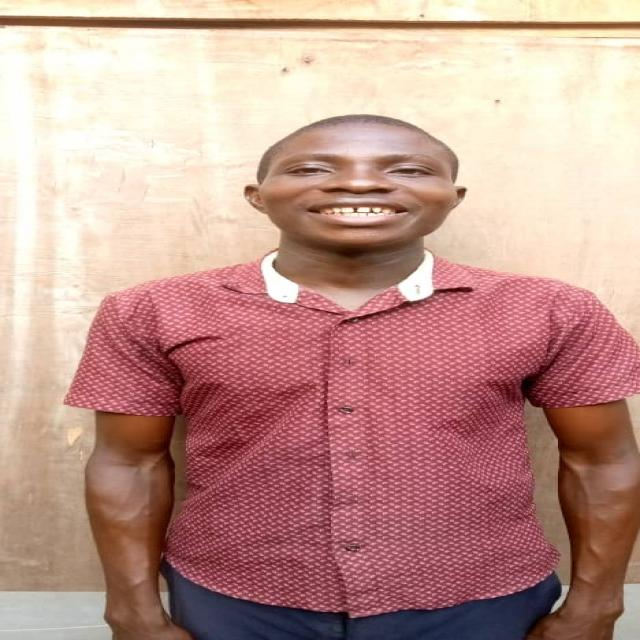happy: (243, 106, 482, 255)
